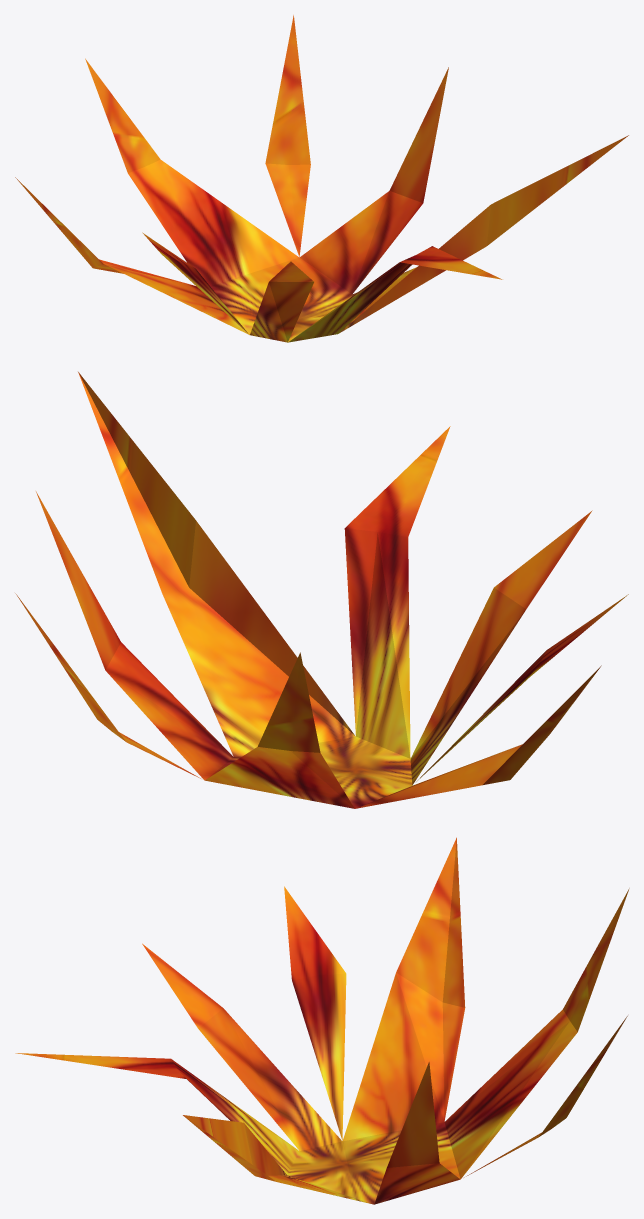
Rendered from Island_1_TFlower_2.gltf.
3 views of the same model, one above another, from view 1: azimuth 30°, elevation 25°; view 2: azimuth 150°, elevation 25°; view 3: azimuth 270°, elevation 25° (orthographic). The views are drawn at different scales.
Parts seen in each view (by area): view 1: Island_1_TFlower_2; view 2: Island_1_TFlower_2; view 3: Island_1_TFlower_2.
Part boxes in pixels (<box>): Island_1_TFlower_2: <box>15,15,628,342</box>; Island_1_TFlower_2: <box>15,372,628,808</box>; Island_1_TFlower_2: <box>15,837,629,1204</box>.
Bounding box in the file's own units: 2.3 × 0.8712 × 2.11.
Materials: 1 (1 with a texture image).
